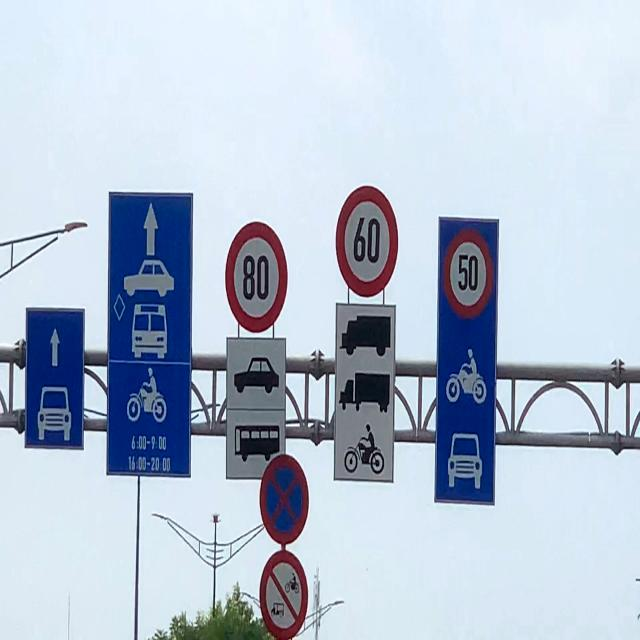Cam dung xe va do xe: (257, 451, 311, 548)
Toc do toi da cho phep: (222, 217, 293, 334), (333, 183, 402, 302), (442, 217, 494, 317)
